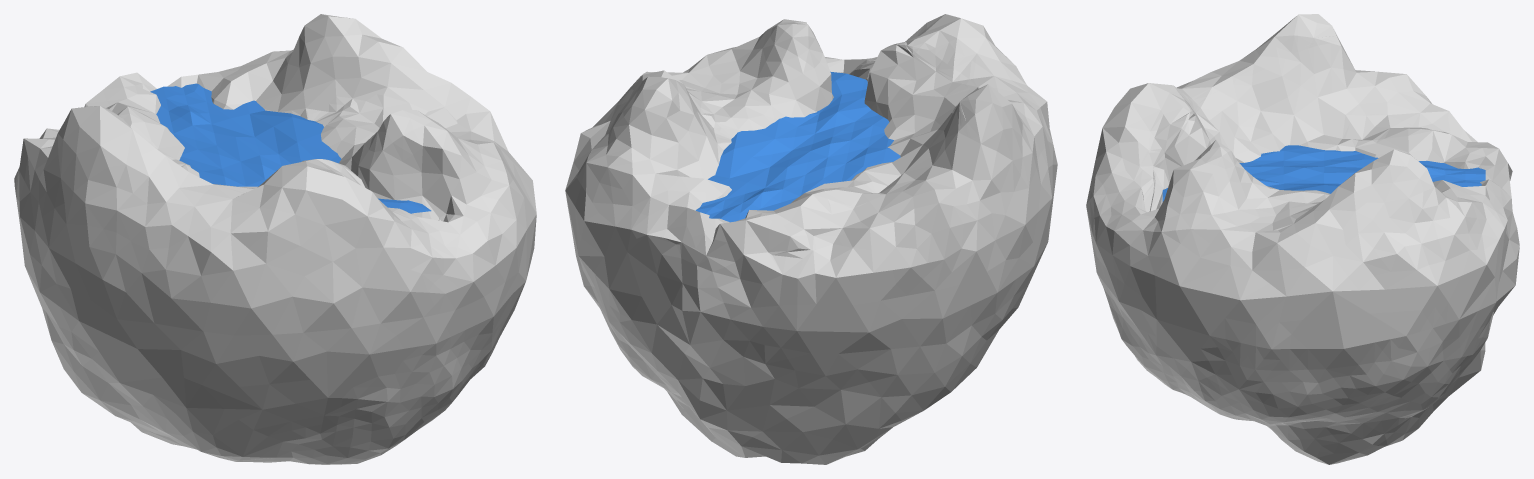
The model's file is Stage1.fbx.
3 renders of one model, left to right at view 1: azimuth 30°, elevation 25°; view 2: azimuth 150°, elevation 25°; view 3: azimuth 270°, elevation 25°, orthographic. The views are drawn at different scales.
Visible parts, largest first — view 1: Icosphere, Plane; view 2: Icosphere, Plane; view 3: Icosphere, Plane.
Part boxes in pixels (left/top/right/bottom): Icosphere: left=14, top=14, right=536, bottom=464; Plane: left=150, top=83, right=431, bottom=213; Icosphere: left=565, top=14, right=1057, bottom=464; Plane: left=696, top=71, right=900, bottom=222; Icosphere: left=1086, top=14, right=1519, bottom=464; Plane: left=1162, top=145, right=1485, bottom=201.
Bounding box in the file's own units: 1964 × 1717 × 1953.
